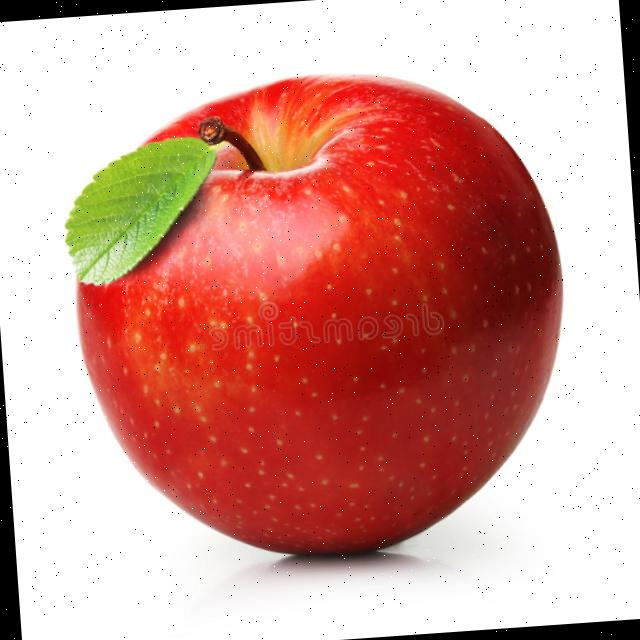Apel: (58, 56, 582, 574)
